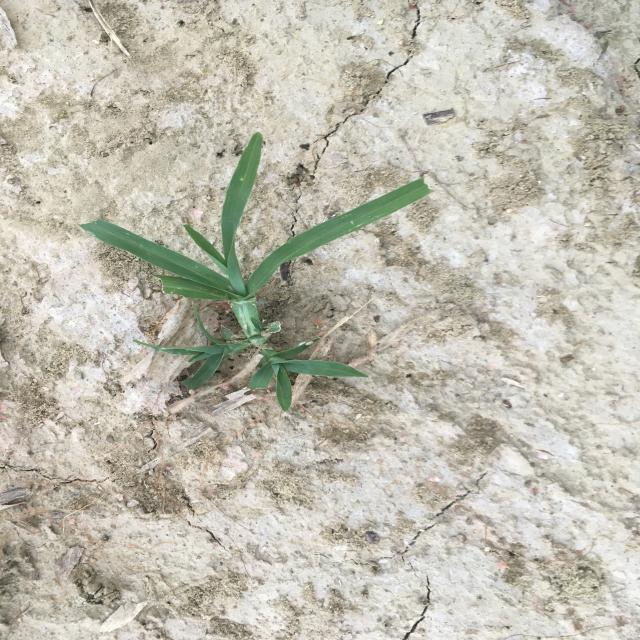Goosegrass: (76, 130, 438, 414)
